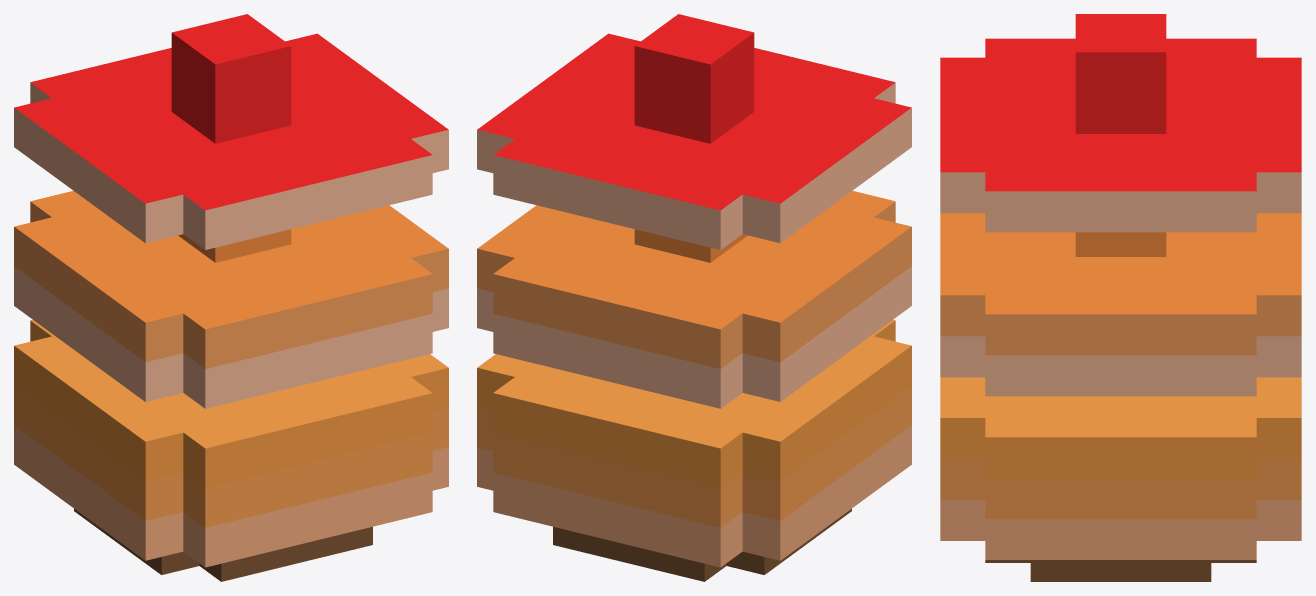
Rendered from CBRA_fire1.obj.
3 renders of one model, left to right at view 1: azimuth 30°, elevation 25°; view 2: azimuth 150°, elevation 25°; view 3: azimuth 270°, elevation 25°, orthographic. The views are drawn at different scales.
Visible parts, largest first — view 1: TorchFlame; view 2: TorchFlame; view 3: TorchFlame.
Boxes of the visible parts, box(x1,y1,x2,y2) form: TorchFlame: box(14, 14, 448, 581); TorchFlame: box(477, 14, 911, 581); TorchFlame: box(940, 14, 1301, 581).
Size of the model in its own units: 0.6154 by 0.9231 by 0.6154.
Materials: 1 (1 with a texture image).
